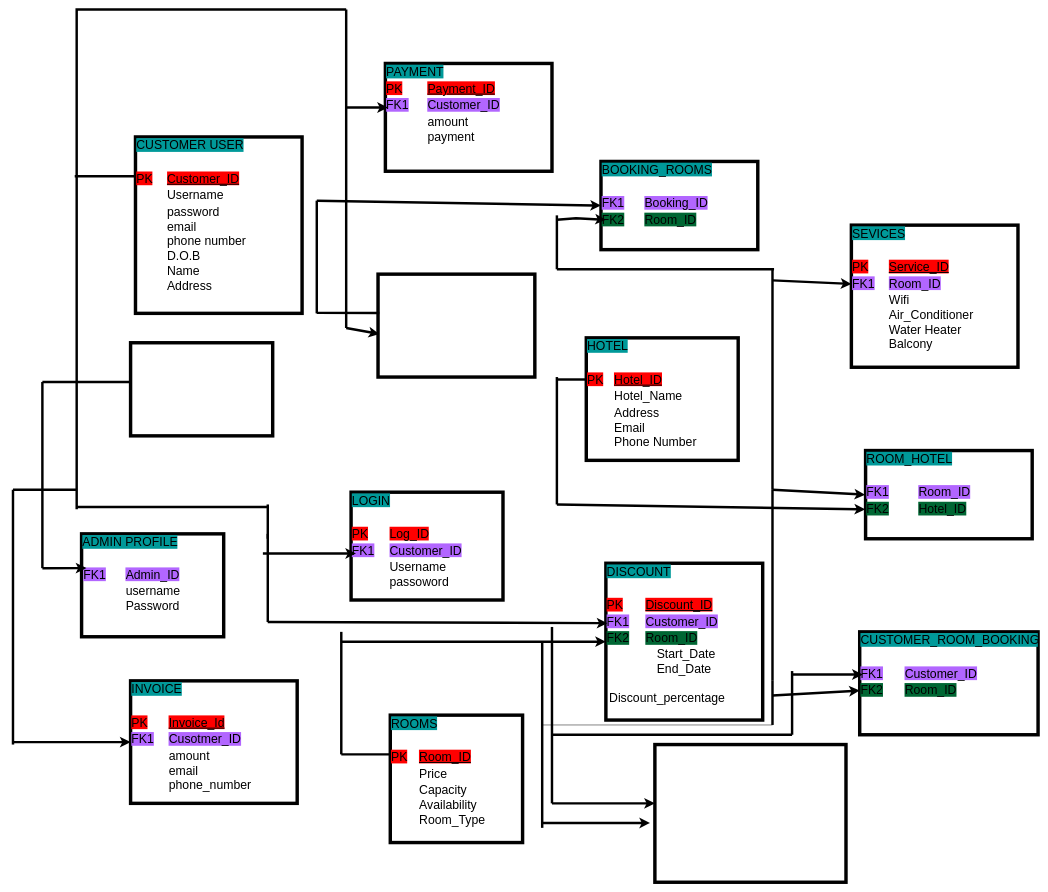
The diagram is 1048 pixels wide and 892 high, and some of its shapes have lost their labels. The centre of each missing label's shape, as x and y in pixels:
ADMIN PK Admin_ID Phone Number: point 201,389
BOOKING PK Booking_ID FK1 Customer_ID cancel_date Refund_amount: point 456,325
REVIEW PK Review_ID FK1 Customer_ID FK2 Room_ID Rating Date Text: point 750,813
